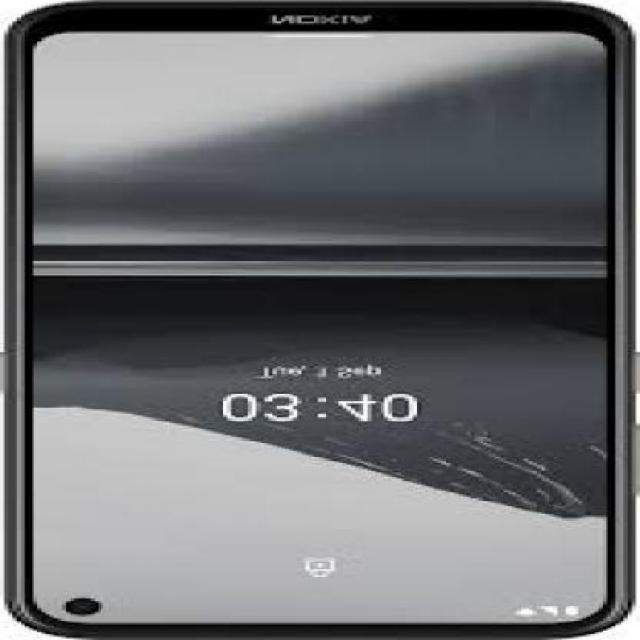phone: (5, 4, 636, 636)
